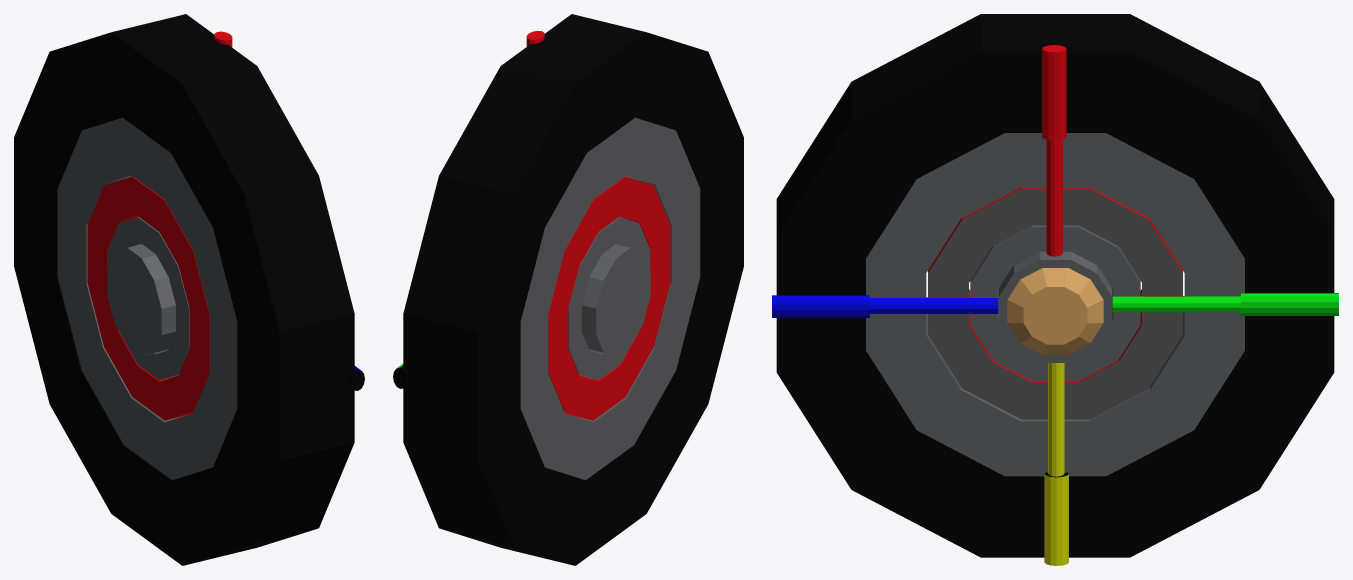
The model's file is Rotating Charger.fbx.
3 renders of one model, left to right at view 1: azimuth 30°, elevation 25°; view 2: azimuth 150°, elevation 25°; view 3: azimuth 270°, elevation 25°, orthographic. The views are drawn at different scales.
Visible parts, largest first — view 1: Cylinder.017, Cylinder.004, Cylinder.007, Cylinder.015, Cylinder.011; view 2: Cylinder.017, Cylinder.004, Cylinder.007, Cylinder.015, Cylinder.011; view 3: Cylinder.017, Cylinder.004, Cylinder.007, Cylinder.011, Cylinder.015.
Boxes of the visible parts, x1=… form: Cylinder.017: x1=14, y1=14, x2=364, y2=565; Cylinder.004: x1=57, y1=117, x2=237, y2=480; Cylinder.007: x1=87, y1=176, x2=209, y2=420; Cylinder.015: x1=107, y1=244, x2=175, y2=356; Cylinder.011: x1=107, y1=217, x2=189, y2=380; Cylinder.017: x1=393, y1=14, x2=743, y2=565; Cylinder.004: x1=520, y1=117, x2=700, y2=480; Cylinder.007: x1=548, y1=176, x2=670, y2=420; Cylinder.015: x1=582, y1=244, x2=650, y2=356; Cylinder.011: x1=568, y1=217, x2=650, y2=380; Cylinder.017: x1=772, y1=14, x2=1338, y2=565; Cylinder.004: x1=866, y1=133, x2=1244, y2=476; Cylinder.007: x1=926, y1=187, x2=1184, y2=423; Cylinder.011: x1=967, y1=225, x2=1143, y2=387; Cylinder.015: x1=998, y1=251, x2=1112, y2=362.
Size of the model in its own units: 62.09 by 268 by 268.
